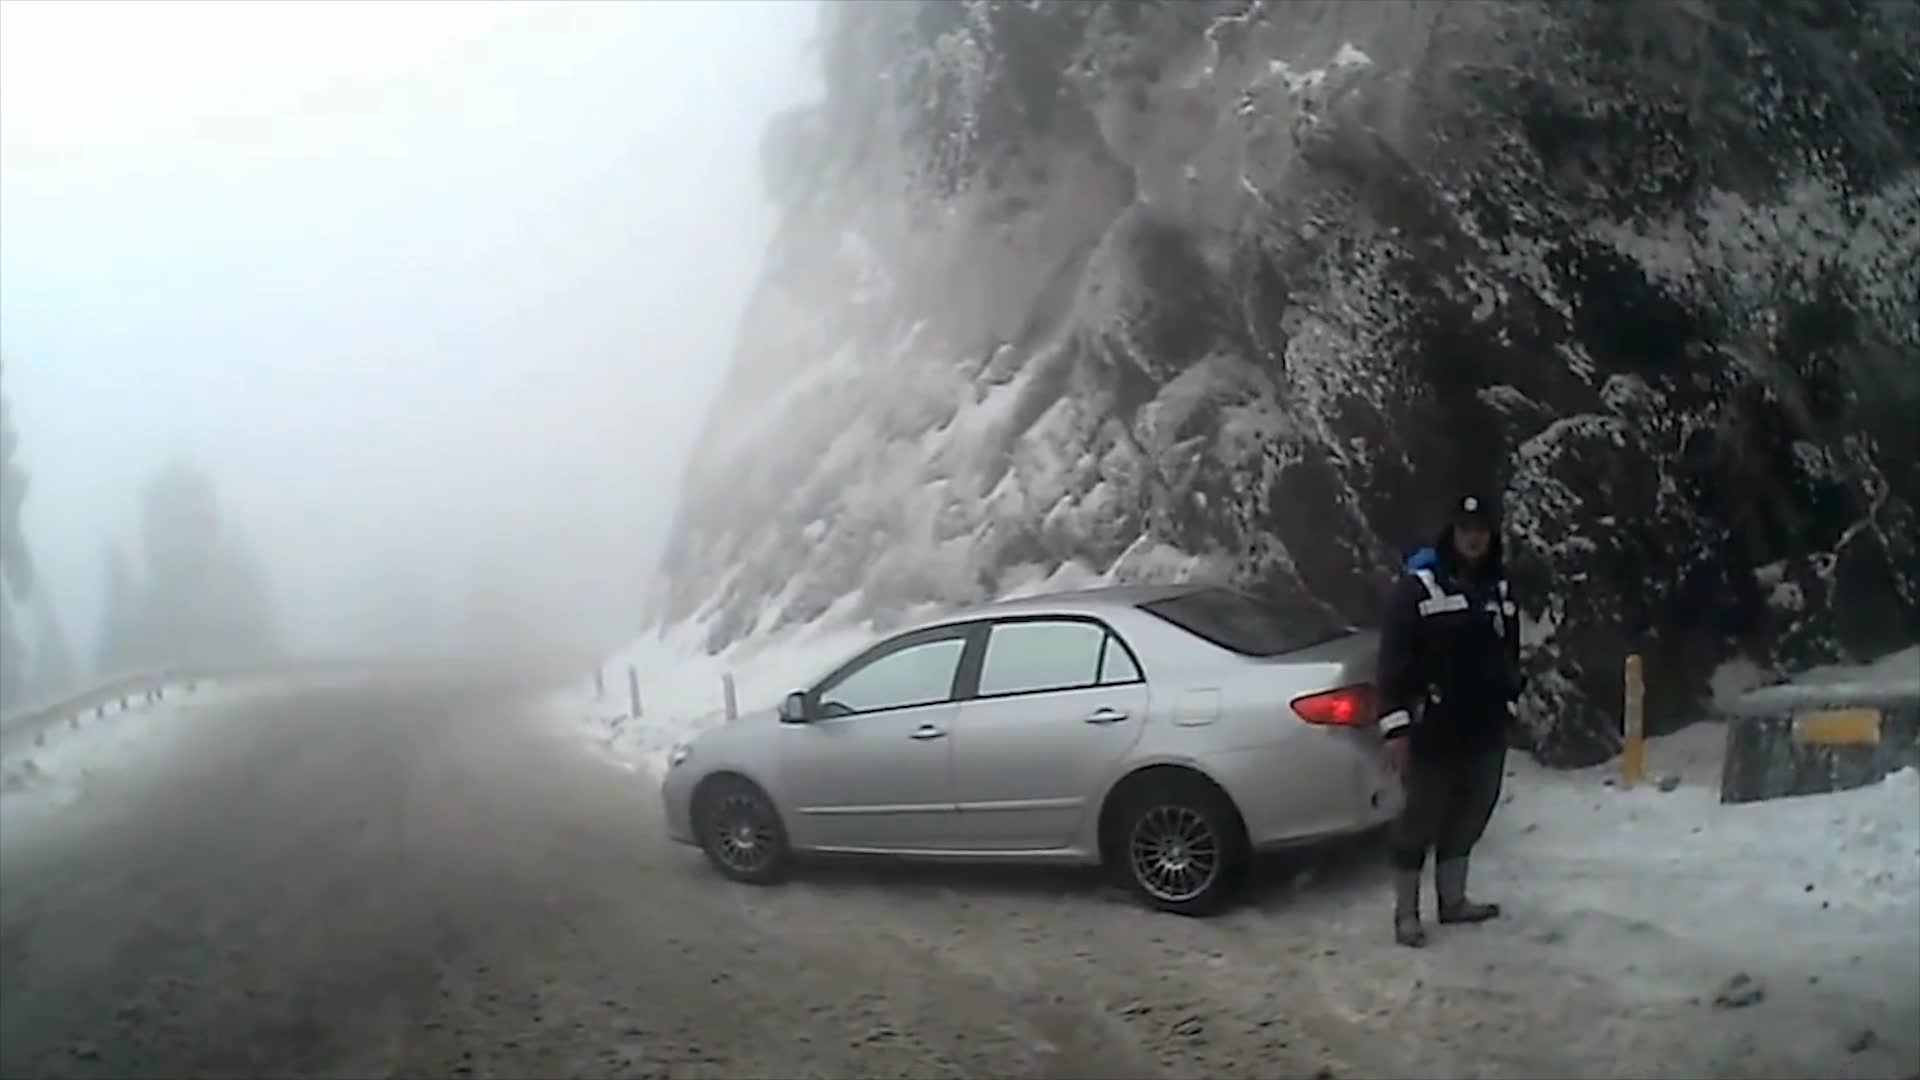pedestrian: (1369, 486, 1524, 944)
vehicle: (657, 584, 1474, 918)
